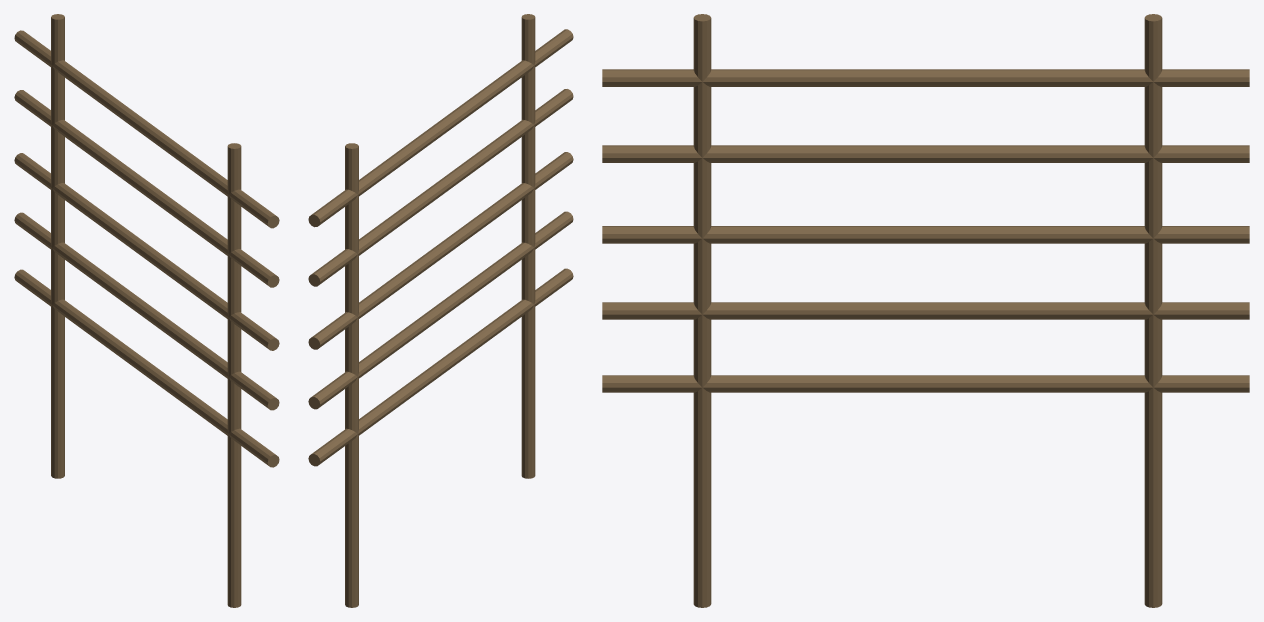
Rendered from estantemercado.fbx.
3 views of the same model, side by side, from view 1: azimuth 30°, elevation 25°; view 2: azimuth 150°, elevation 25°; view 3: azimuth 270°, elevation 25° (orthographic). The views are drawn at different scales.
Visible parts, largest first — view 1: Cylinder; view 2: Cylinder; view 3: Cylinder.
Boxes of the visible parts, <box> form: Cylinder: <box>14,14,279,607</box>; Cylinder: <box>308,14,573,607</box>; Cylinder: <box>602,14,1249,607</box>.
Size of the model in its own units: 58.78 by 2167 by 2167.
Materials: 1 (1 with a texture image).
